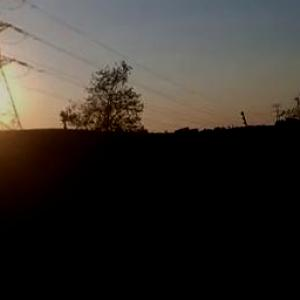follow: (115, 139, 190, 299)
